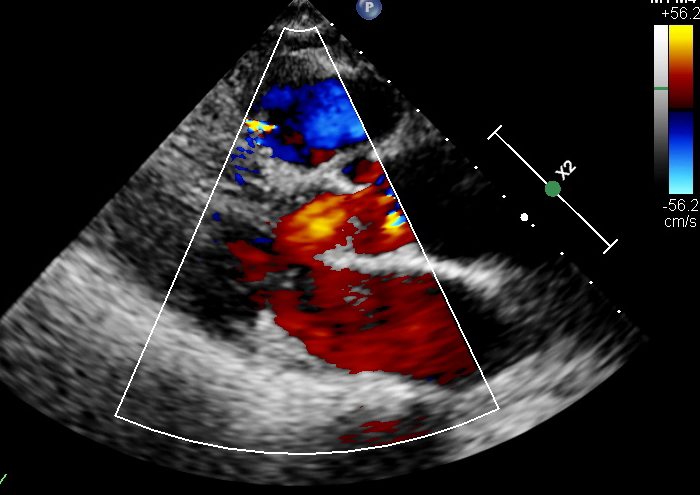AR: (269, 167, 382, 271)
